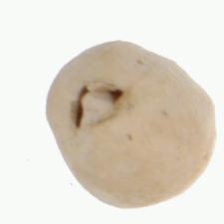L3: (70, 80, 124, 129)
L4: (45, 40, 217, 208)
